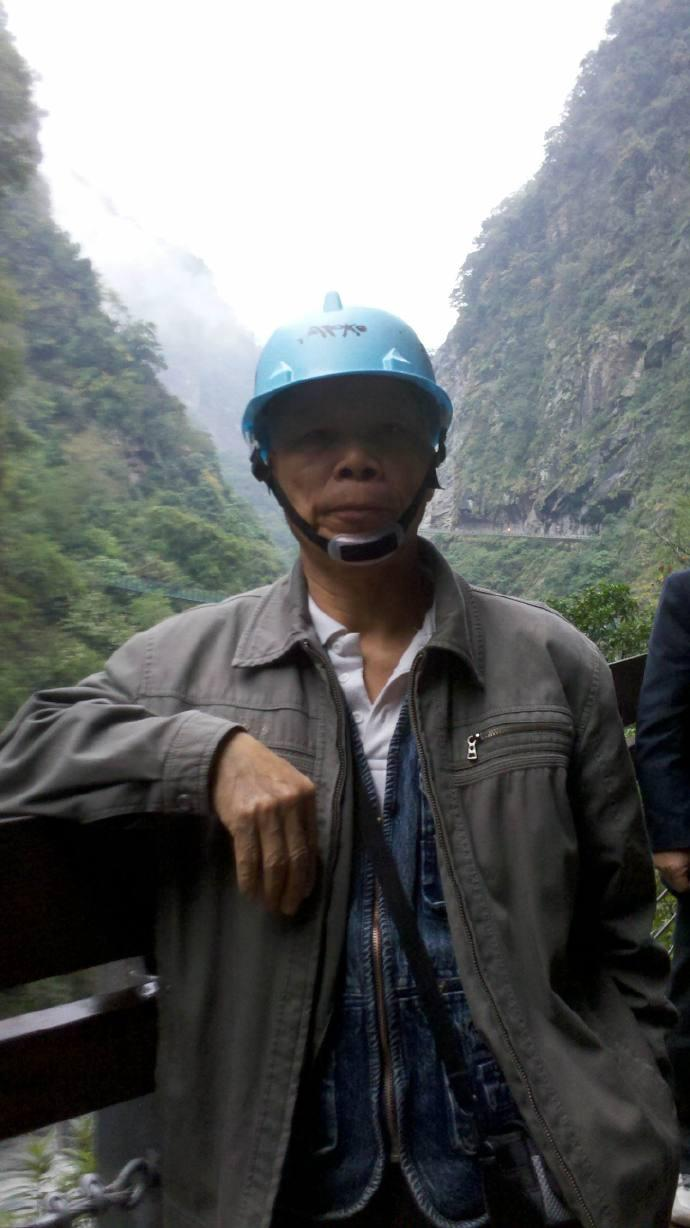helmet: (249, 287, 457, 435)
